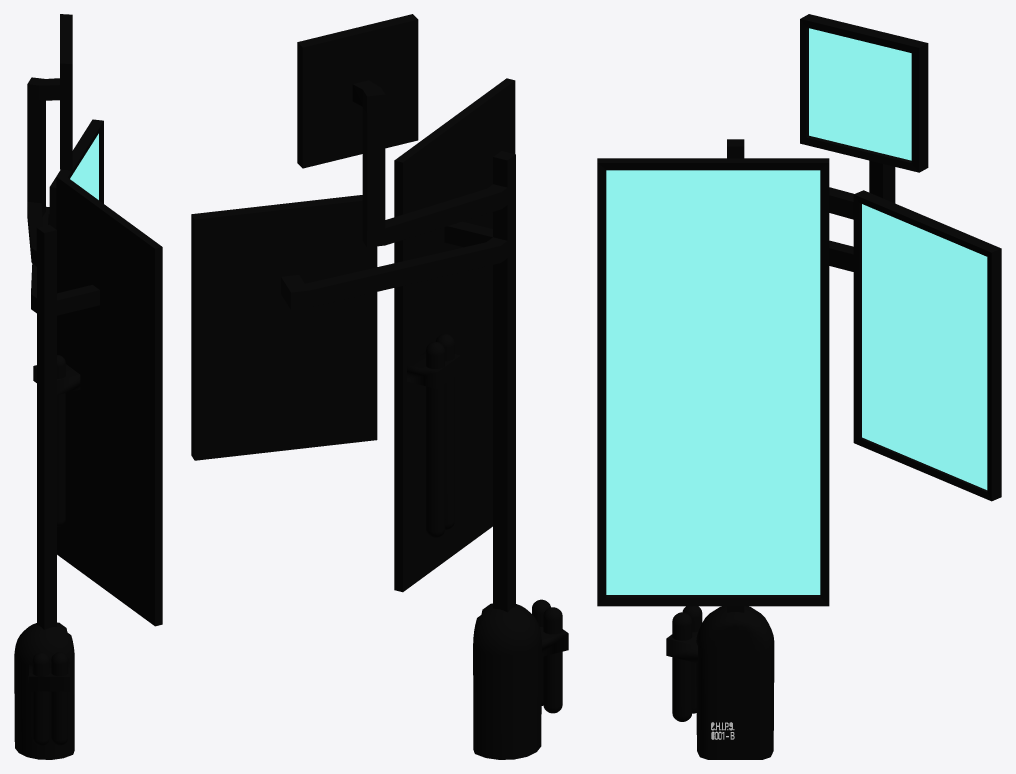
Rendered from CHIPS2.fbx.
3 views of the same model, side by side, from view 1: azimuth 30°, elevation 25°; view 2: azimuth 150°, elevation 25°; view 3: azimuth 270°, elevation 25° (orthographic). The views are drawn at different scales.
Visible parts, largest first — view 1: CHIPS; view 2: CHIPS; view 3: CHIPS.
Part boxes in pixels (x1,y1,x2,y2): CHIPS: [14, 14, 162, 759]; CHIPS: [191, 14, 568, 759]; CHIPS: [597, 14, 1001, 759].
Size of the model in its own units: 7.06 by 21.5 by 10.33.
